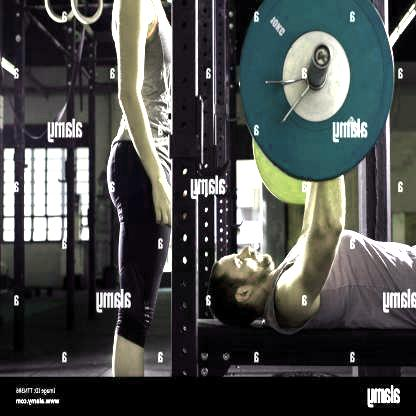Barbell: (310, 41, 329, 72)
